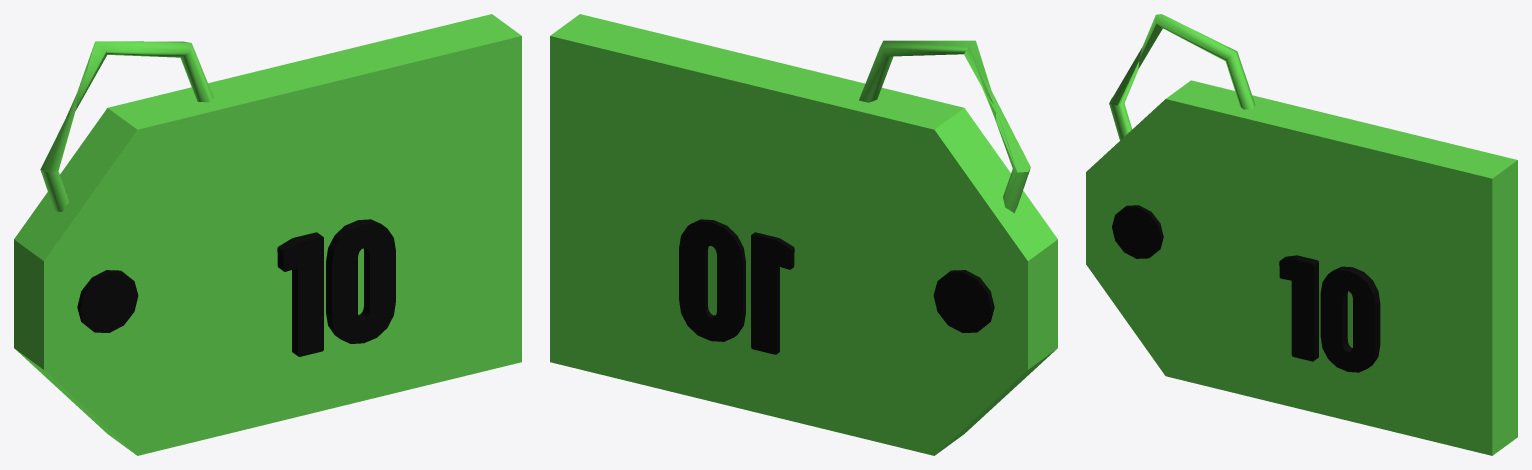
Rendered from powerup_tag.gltf.
3 renders of one model, left to right at view 1: azimuth 30°, elevation 25°; view 2: azimuth 150°, elevation 25°; view 3: azimuth 330°, elevation 25°, orthographic. The views are drawn at different scales.
Visible parts, largest first — view 1: powerup_tag; view 2: powerup_tag; view 3: powerup_tag.
Boxes of the visible parts, x1,y1,x2,y2 form: powerup_tag: [14, 14, 521, 455]; powerup_tag: [550, 14, 1057, 455]; powerup_tag: [1086, 14, 1517, 455].
Bounding box in the file's own units: 0.46 × 0.3765 × 0.065.
